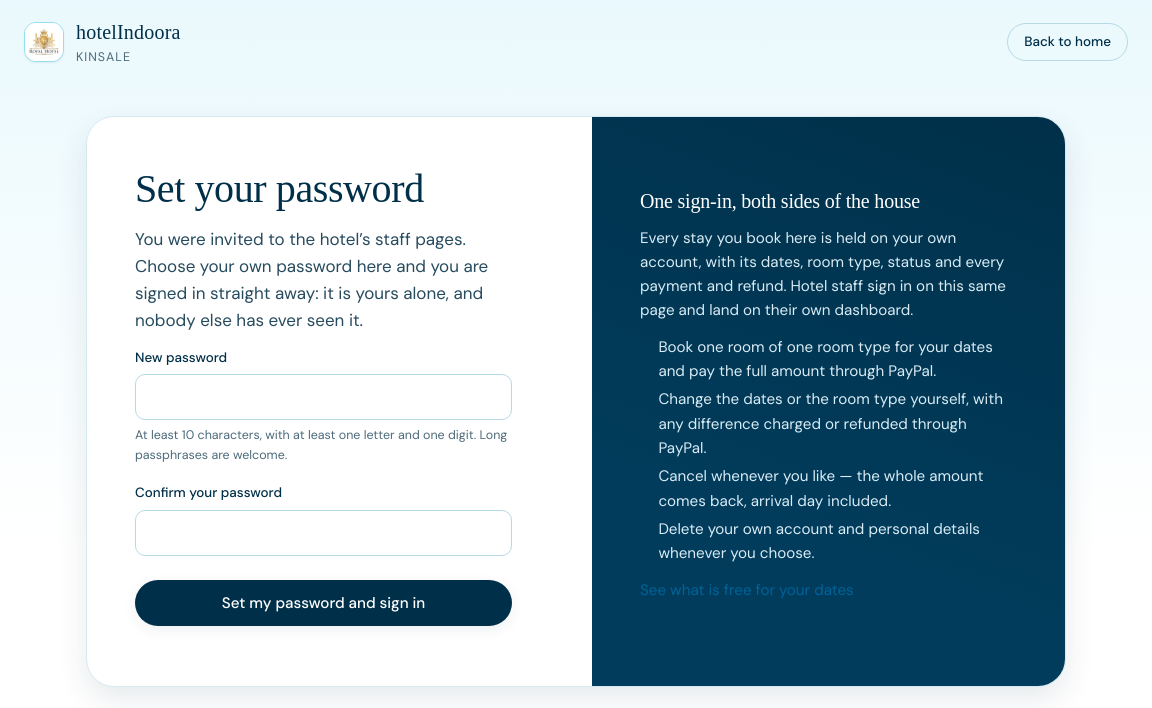
it: the invitation a colleague is emailed › refuses two passwords that differ without asking the server
Expected: the heading "Set your password" is shown, [135,166,424,211]
Type "Harbour-2026" into the password field labelled "New password" at (324, 397), box [135,374,512,420]
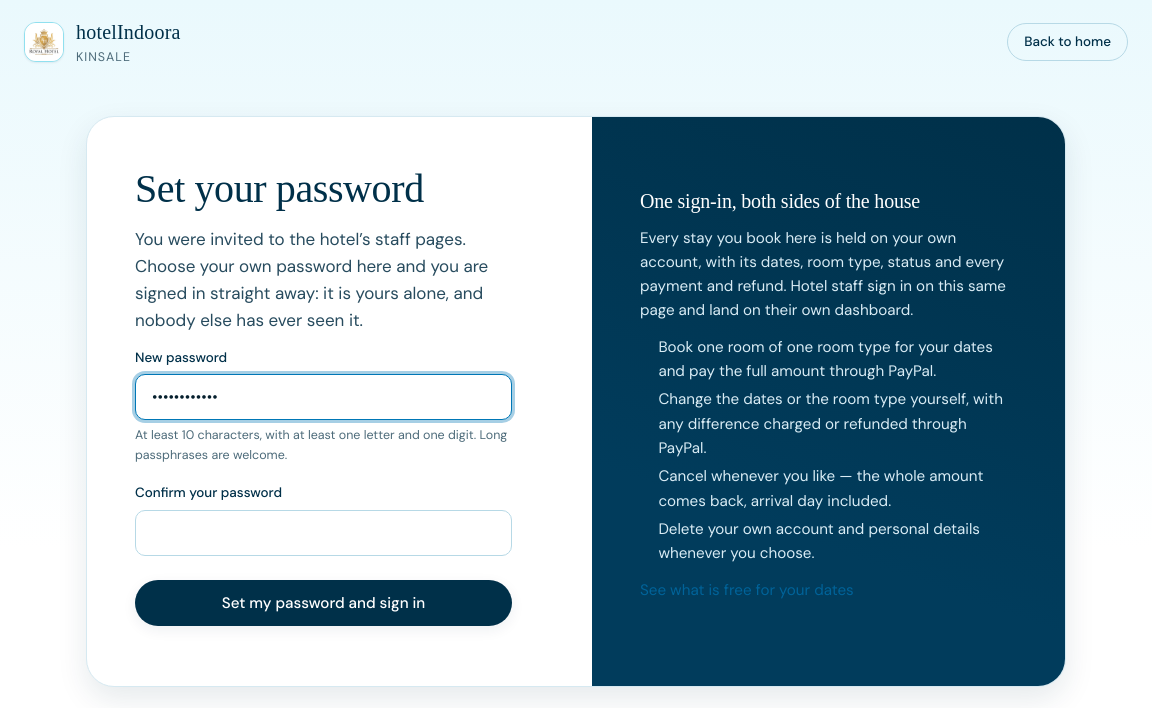
Type "Harbour-2027" into the password field labelled "Confirm your password" at (324, 533), box [135,510,512,556]
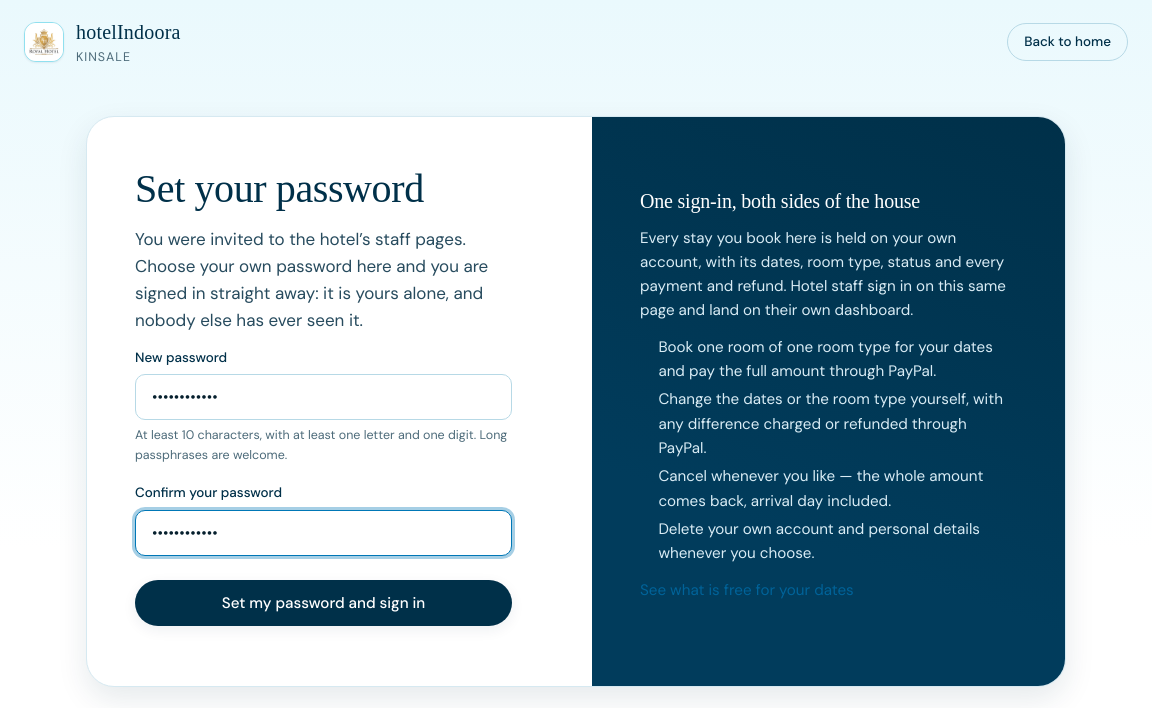
Click the button "Set my password and sign in" at (324, 603), box [135,580,512,626]
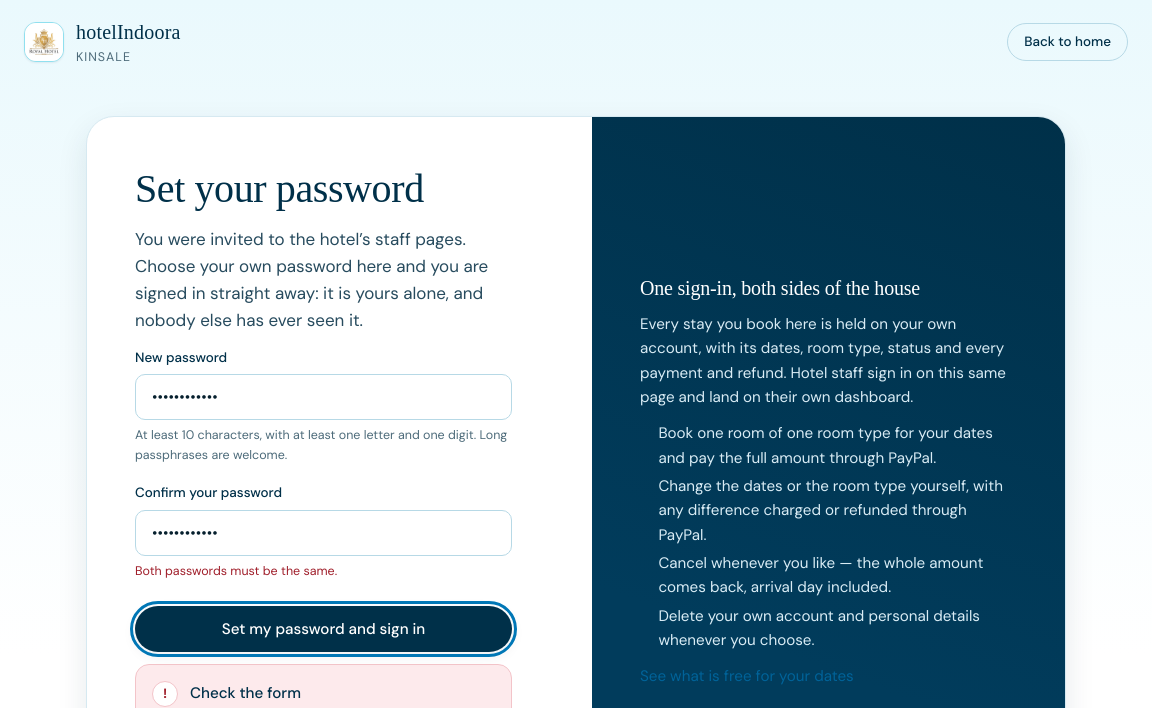
Expected: the text "Both passwords must be the same." is shown, [135,563,337,579]
